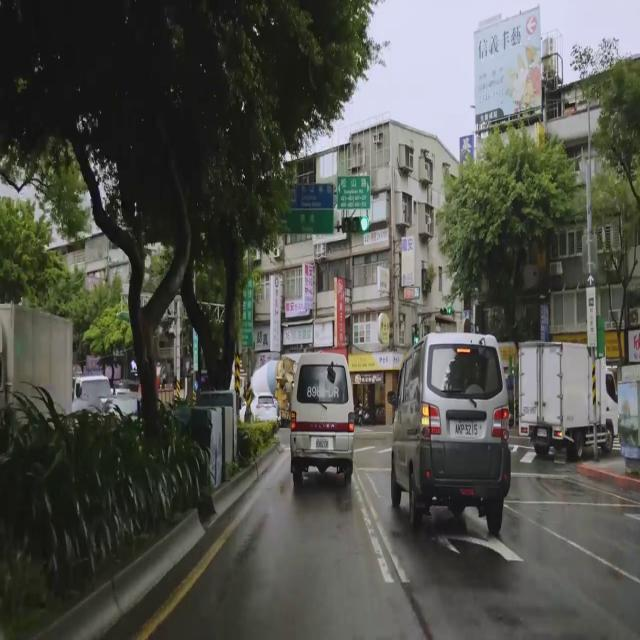green light: (341, 217, 369, 233)
